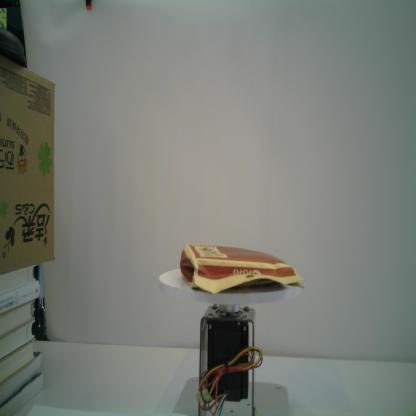Dried Food: (179, 242, 305, 295)
